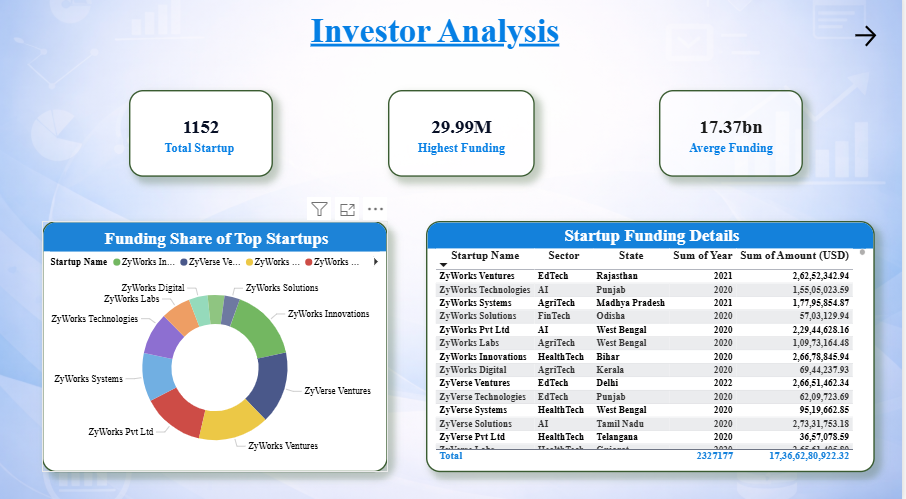

Layout of this report page (visuals, bound fields, positions):
{"tool":"powerbi","page":{"name":"Investor Analysis","canvas":[1280,720],"ordinal":4},"visuals":[{"type":"textbox","box":[437.3,18.7,368,82.7],"z":0},{"type":"card","fields":{"Values":["CountNonNull(Startup.Startup Name)"]},"box":[185.7,136.1,204.1,123.3],"z":1000},{"type":"card","fields":{"Values":["Max(Startup.Amount (USD))"]},"box":[552.8,136.1,208.3,123.3],"z":2000},{"type":"card","fields":{"Values":["Sum(Startup.Amount (USD))"]},"box":[936.9,136.1,204.1,123.3],"z":3000},{"type":"donutChart","title":"Funding Share of Top Startups","fields":{"Category":["Startup.Startup Name"],"Y":["Sum(Startup.Amount (USD))"]},"box":[62.4,321.7,490.4,355.7],"z":4000},{"type":"tableEx","title":"Startup Funding Details","fields":{"Values":["Startup.Startup Name","Startup.Sector","Startup.State","Sum(Startup.Year)","Sum(Startup.Amount (USD))"]},"box":[606.6,321.7,636.4,355.7],"z":5000},{"type":"actionButton","box":[1179.2,39.7,100.6,39.7],"z":5001}]}

Visuals, with their boxes in screenshot pixels (x1, y1, x2, y2), scaled from the page's 1280x720 canvas onto the 906x499 screenshot:
textbox: {"x1": 310, "y1": 13, "x2": 570, "y2": 70}
card - CountNonNull(Startup.Startup Name): {"x1": 131, "y1": 94, "x2": 276, "y2": 180}
card - Max(Startup.Amount (USD)): {"x1": 391, "y1": 94, "x2": 539, "y2": 180}
card - Sum(Startup.Amount (USD)): {"x1": 663, "y1": 94, "x2": 808, "y2": 180}
"Funding Share of Top Startups" donutChart: {"x1": 44, "y1": 223, "x2": 391, "y2": 469}
"Startup Funding Details" tableEx: {"x1": 429, "y1": 223, "x2": 880, "y2": 469}
actionButton: {"x1": 835, "y1": 28, "x2": 905, "y2": 55}
